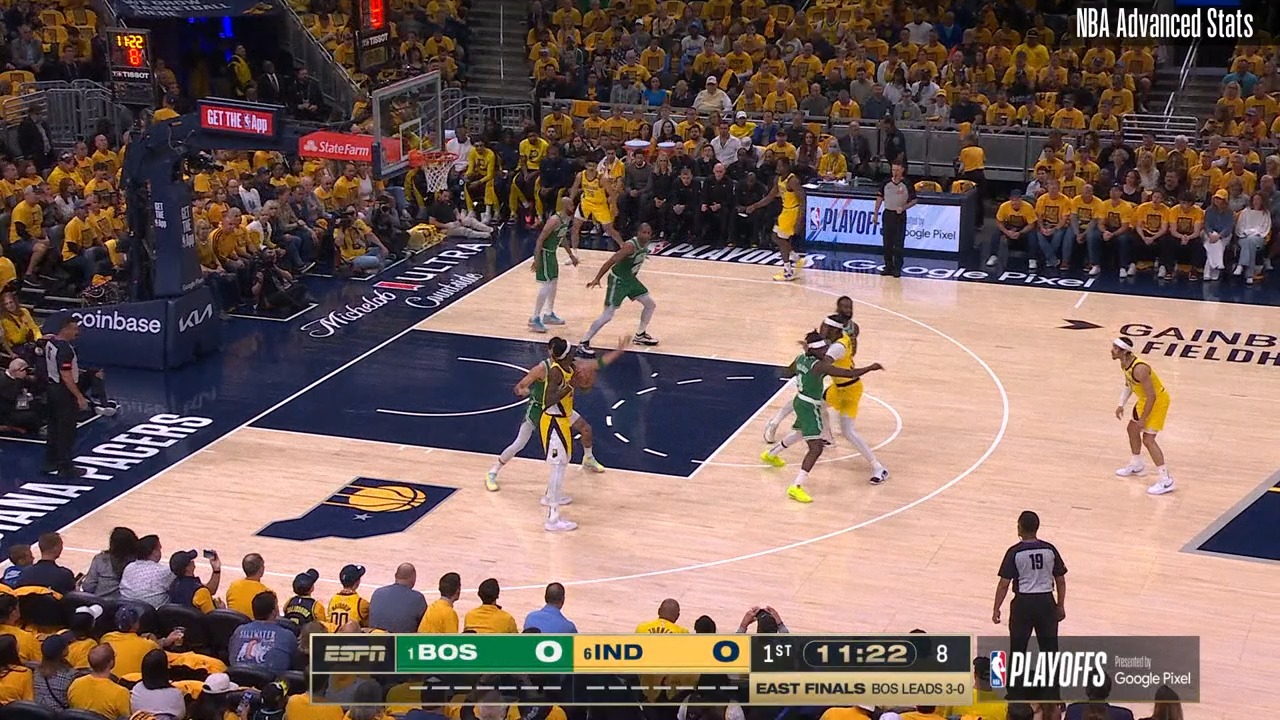basketball: (573, 358, 601, 384)
